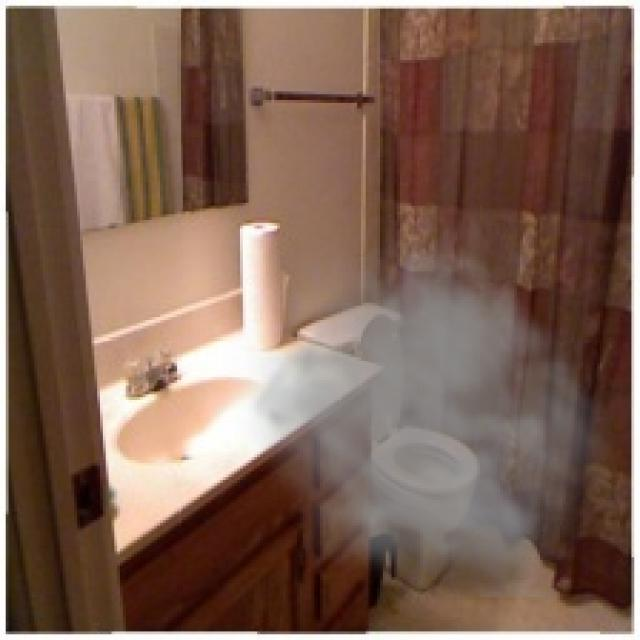Smoke: (234, 202, 629, 598)
